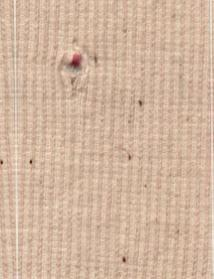hole: (54, 41, 99, 81)
stain: (132, 93, 152, 114), (24, 151, 43, 173), (122, 148, 142, 168), (115, 249, 133, 268), (0, 153, 15, 172)
